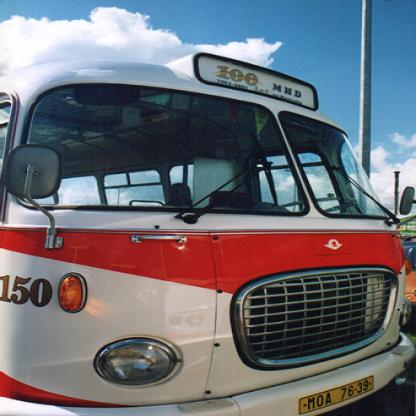bus: (1, 48, 415, 415)
